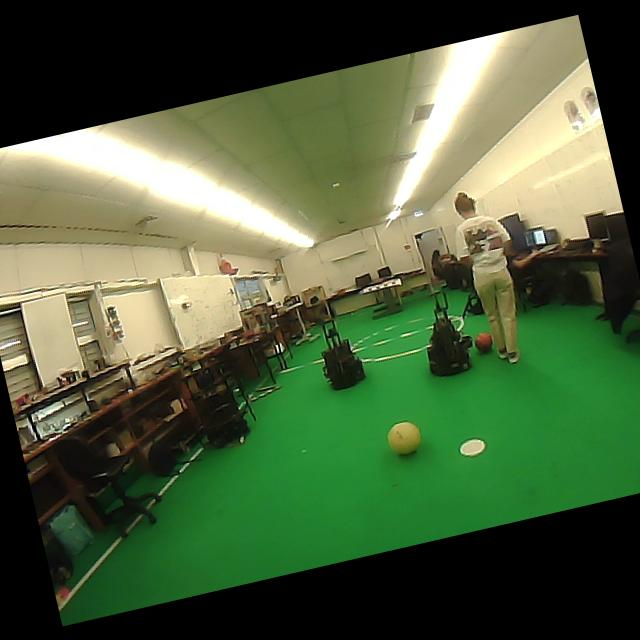ball: (387, 421, 421, 454), (474, 331, 492, 353)
robot: (427, 291, 472, 376), (195, 381, 249, 447), (321, 319, 365, 390)
